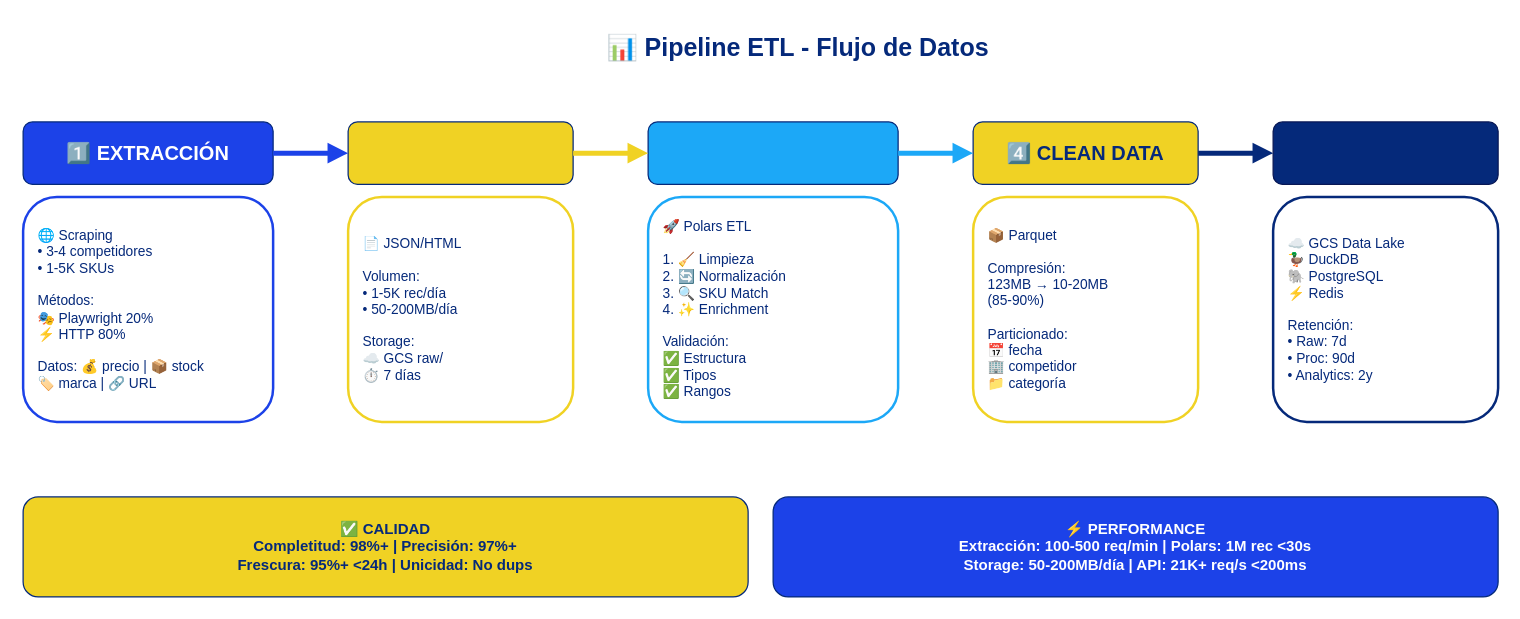
Image size: 1520x619. Some labels were removed from this diagram. Each missing label, with the centre of its shape:
2️⃣ RAW DATA: point (460, 152)
3️⃣ TRANSFORMACIÓN: point (772, 152)
5️⃣ STORAGE: point (1385, 152)
